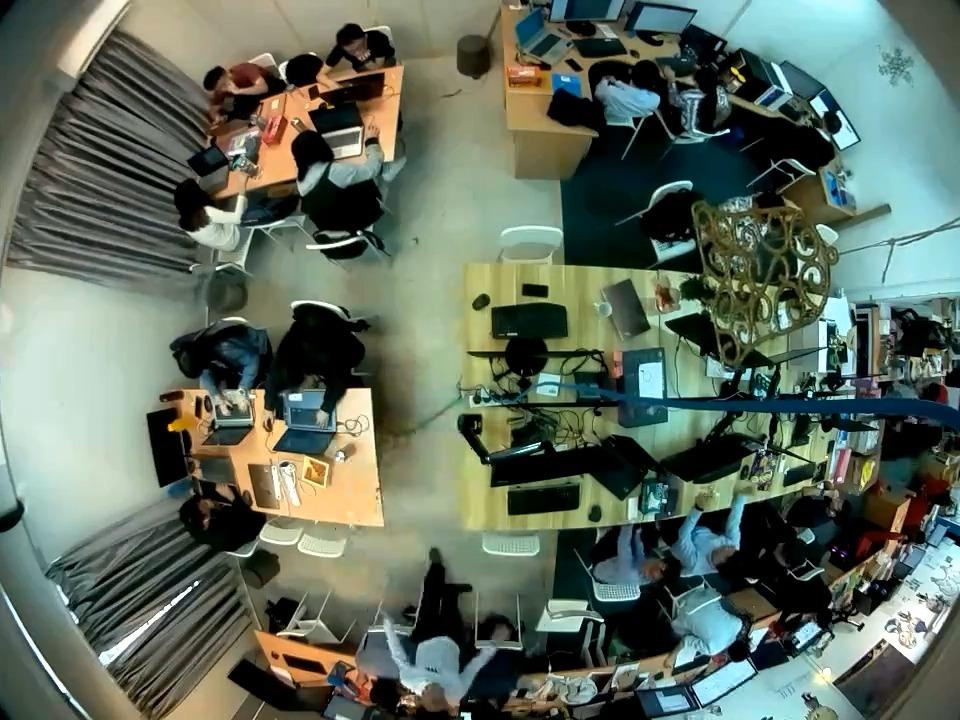name-tag: (422, 664, 440, 676)
